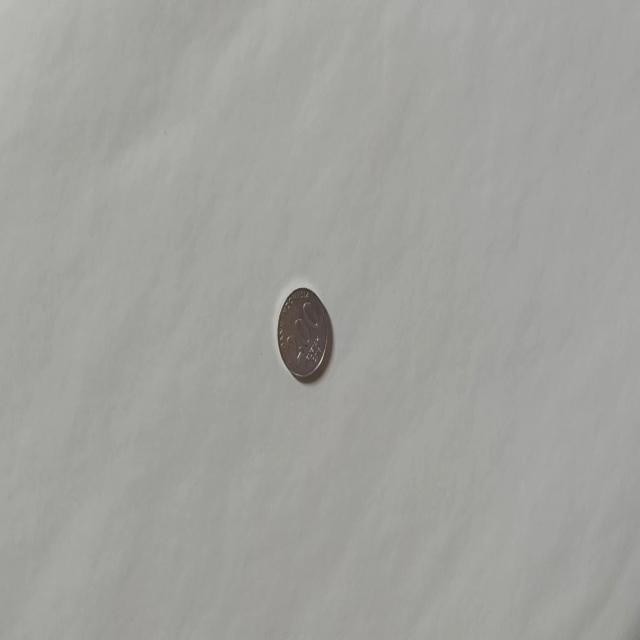dua ratus rupiah: (276, 284, 330, 380)
